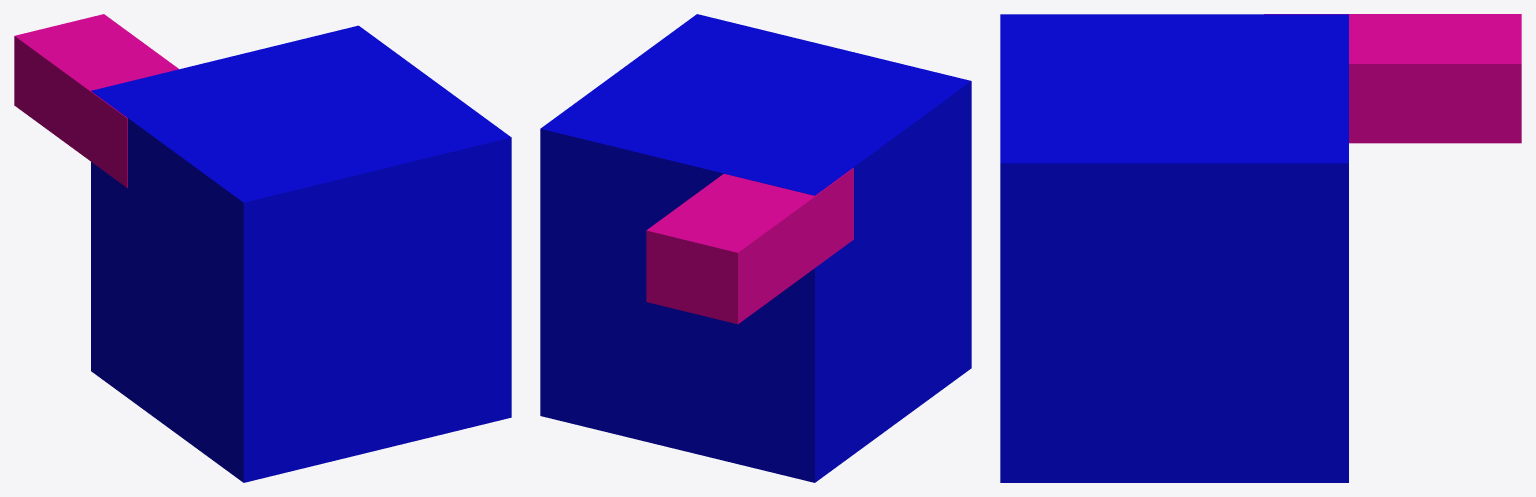
The model's file is TuileCarree00.fbx.
The picture shows the model from 3 angles, left to right: view 1: azimuth 30°, elevation 25°; view 2: azimuth 150°, elevation 25°; view 3: azimuth 270°, elevation 25°; orthographic projection. The views are drawn at different scales.
Visible parts, largest first — view 1: 0,0; view 2: 0,0; view 3: 0,0.
Part boxes in pixels (x1,y1,x2,y2): 0,0: (14,14,511,482); 0,0: (540,14,971,482); 0,0: (1000,14,1521,482).
Bounding box in the file's own units: 100 × 100 × 148.
